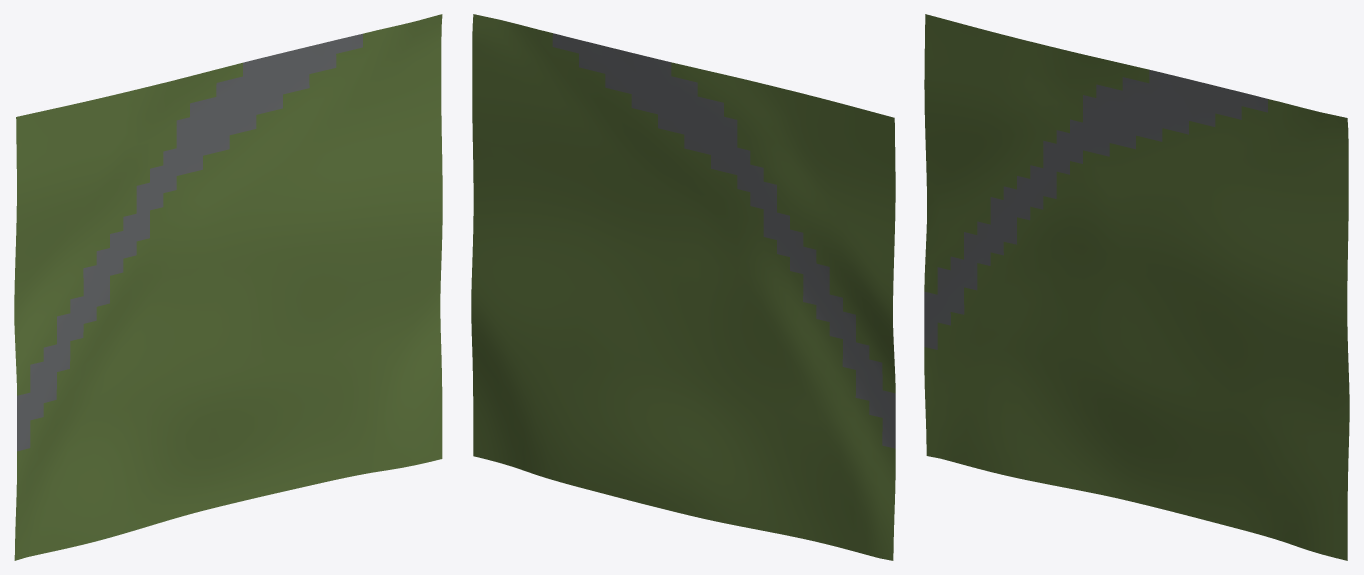
File: island_terrain_02_06.obj
The picture shows the model from 3 angles, left to right: view 1: azimuth 30°, elevation 25°; view 2: azimuth 150°, elevation 25°; view 3: azimuth 330°, elevation 25°; orthographic projection.
Visible parts, largest first — view 1: island_terrain_02_06; view 2: island_terrain_02_06; view 3: island_terrain_02_06.
Part boxes in pixels (left/top/right/bottom): island_terrain_02_06: left=14, top=14, right=442, bottom=560; island_terrain_02_06: left=471, top=14, right=895, bottom=560; island_terrain_02_06: left=924, top=14, right=1349, bottom=560.
Bounding box in the file's own units: 256 × 256 × 8.88.
